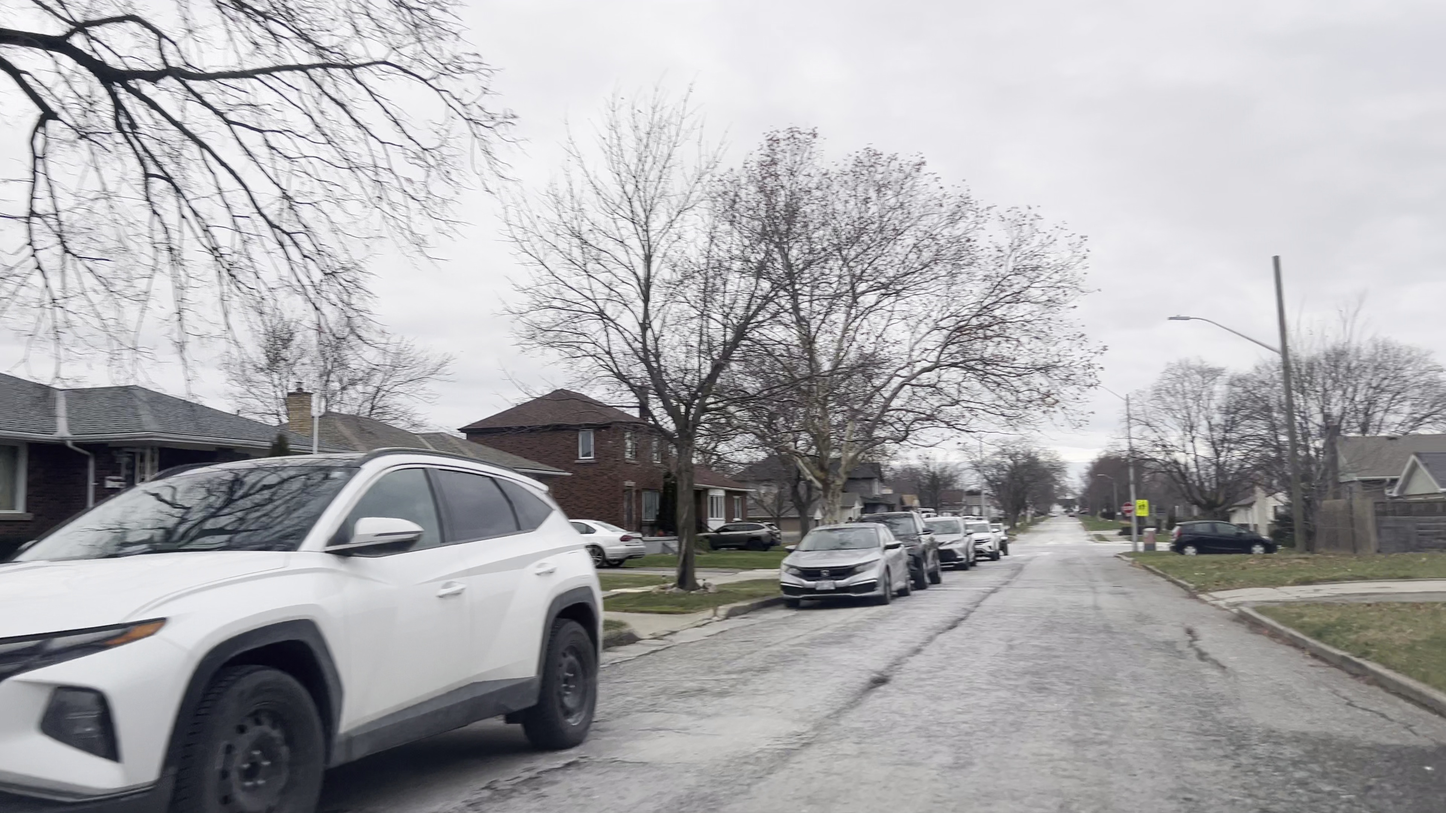cracks: (1170, 614, 1251, 685), (851, 644, 919, 698)
